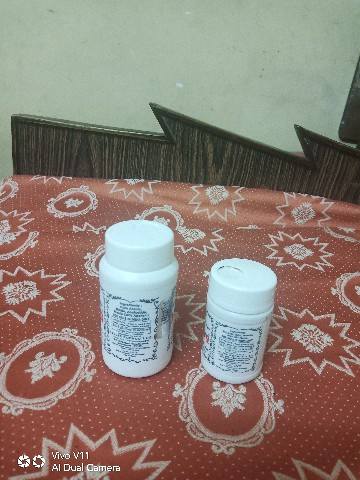lgasafoetidapowder large: (89, 154, 181, 385)
lgasafoetidapowder small: (196, 250, 289, 397)
